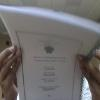notebook: (0, 3, 99, 99)
